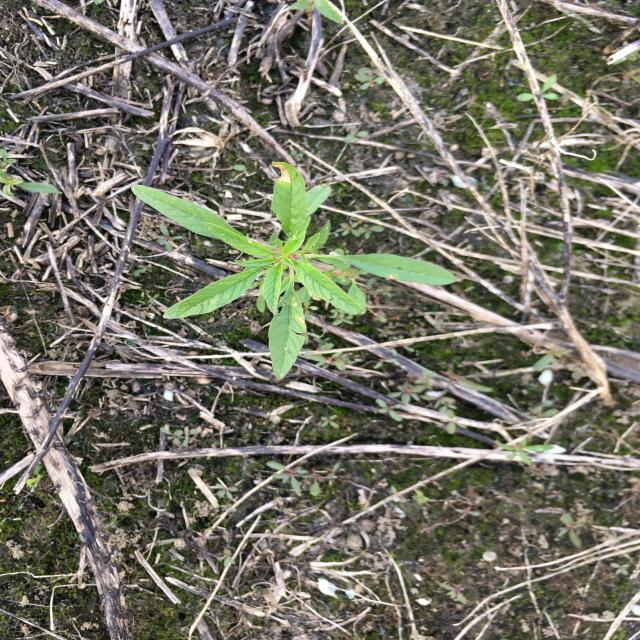Waterhemp: (128, 160, 460, 381)
